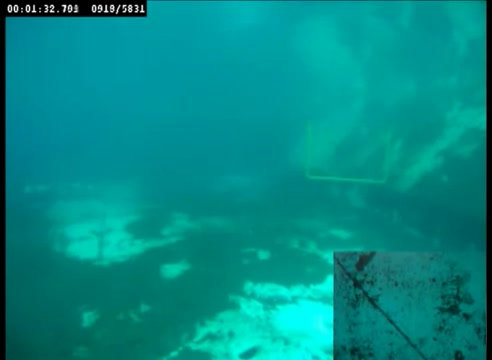channel: (301, 122, 398, 186)
